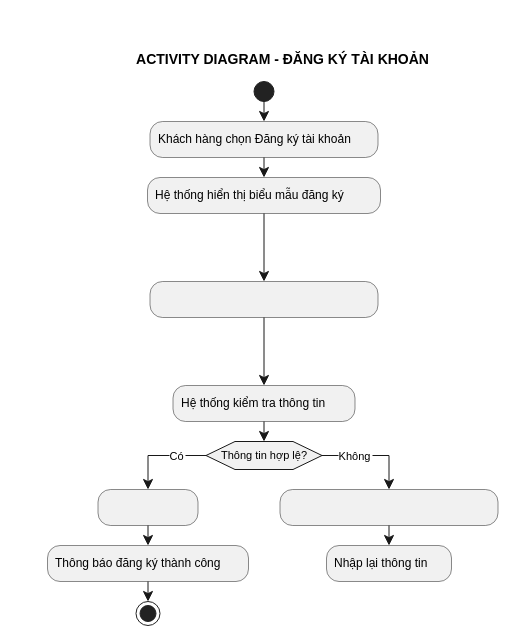
This 515x643 diagram has some shape labels left out. The shapes that lost their labels are listed below. From the top down, each one's centre as x and y in pixels, then its label:
At point (263, 299): "Khách hàng nhập thông tin cá nhân".
At point (147, 507): "Tạo tài khoản".
At point (388, 507): "Thông báo thông tin không hợp lệ".
